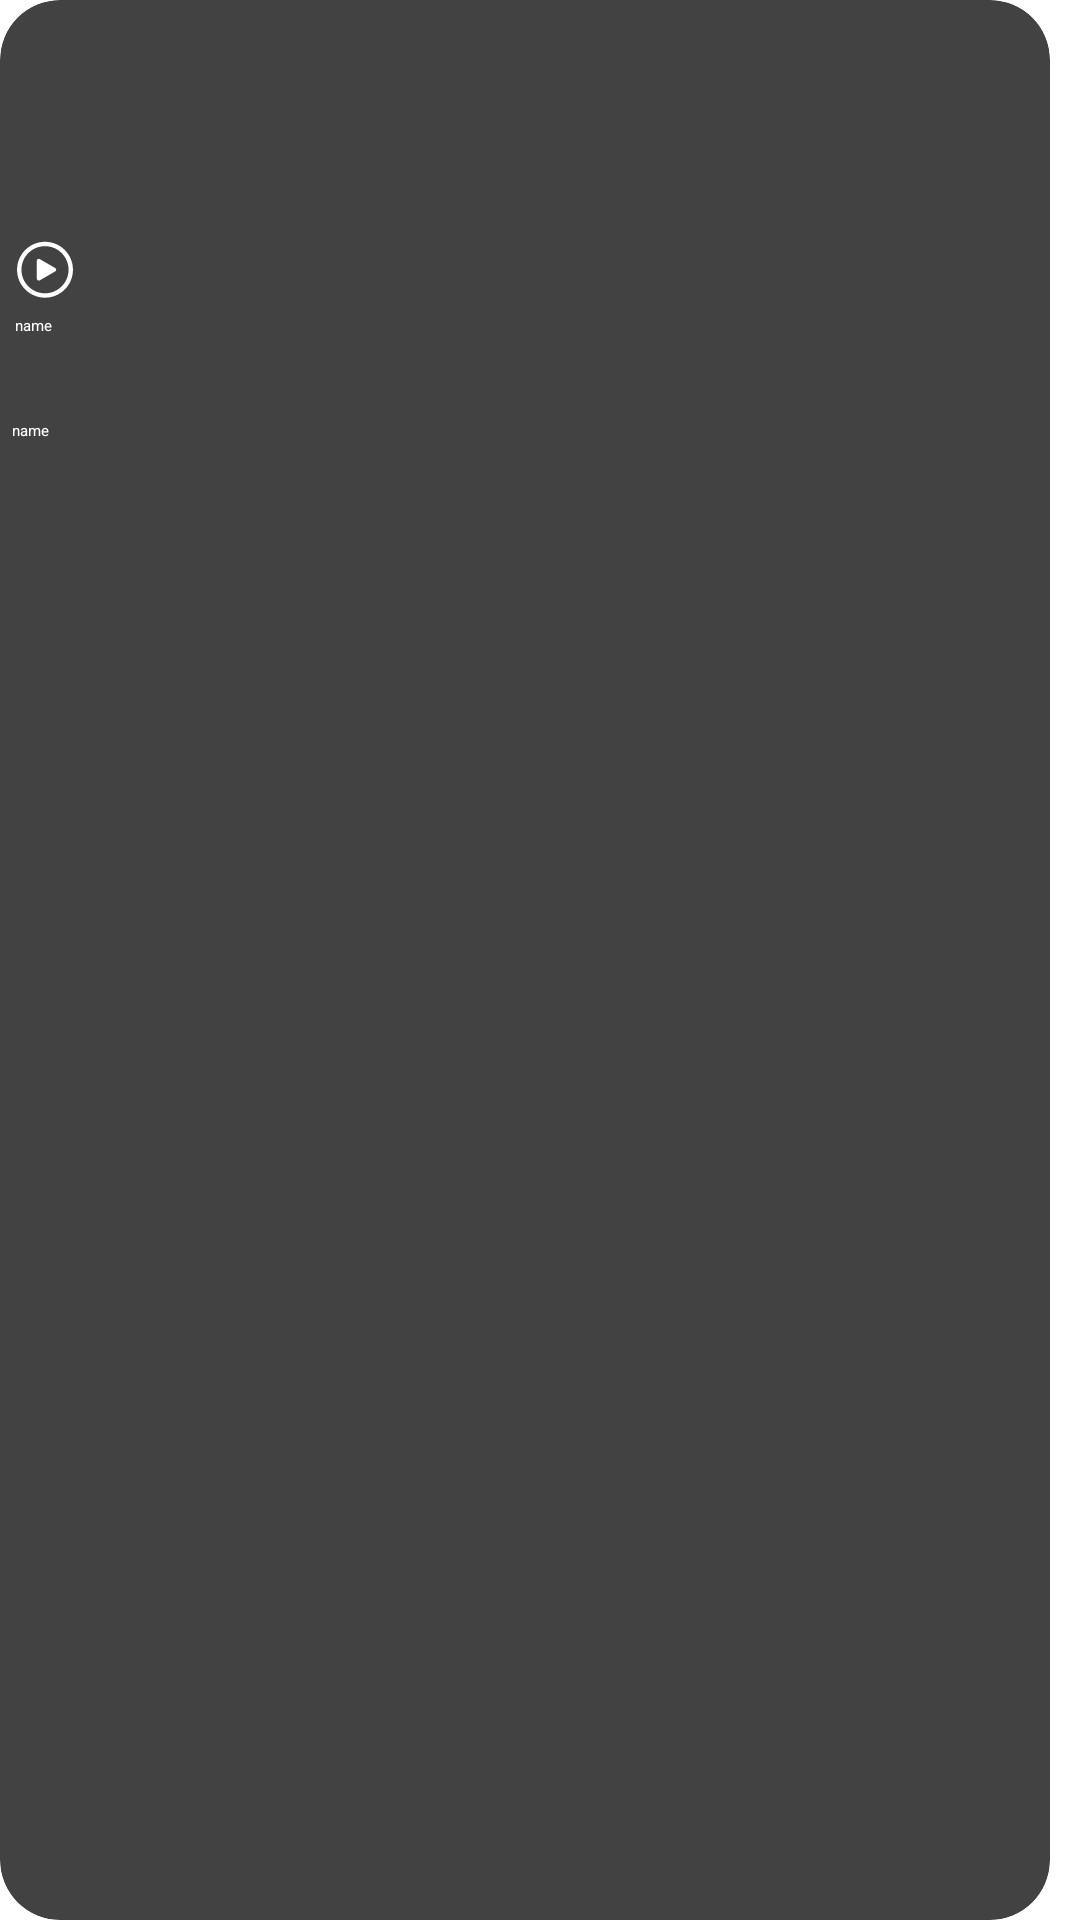

Screen size 1080px×1920px. Icon name, then its center in pixels as (x,y):
video: (45,269)
